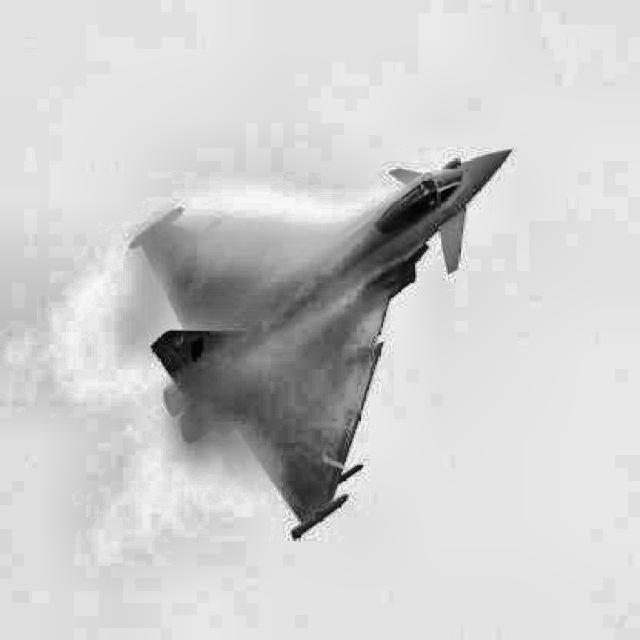EF2000: (129, 148, 513, 540)
